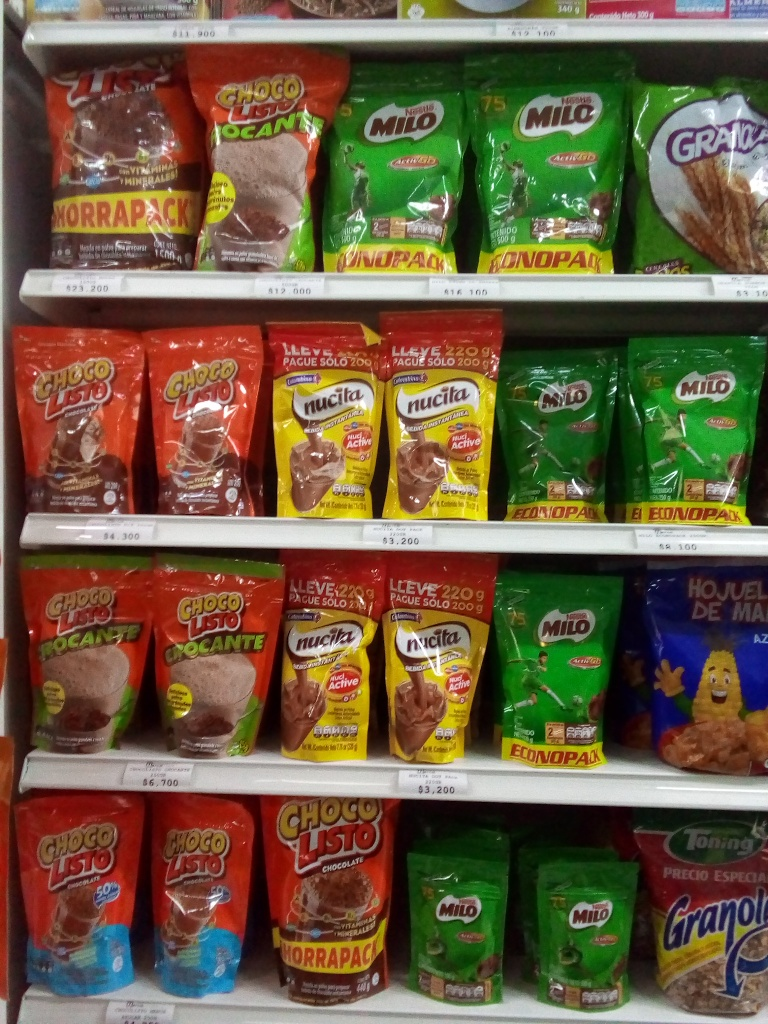COL0170102DYP50000: (182, 41, 333, 276)
COL0170103DYP1,500: (35, 45, 210, 275)
COL0170103DYP44000: (254, 791, 401, 1006)
COL0170203DYP10000: (403, 848, 509, 1003)
COL0170203DYP50000: (469, 50, 625, 281)
